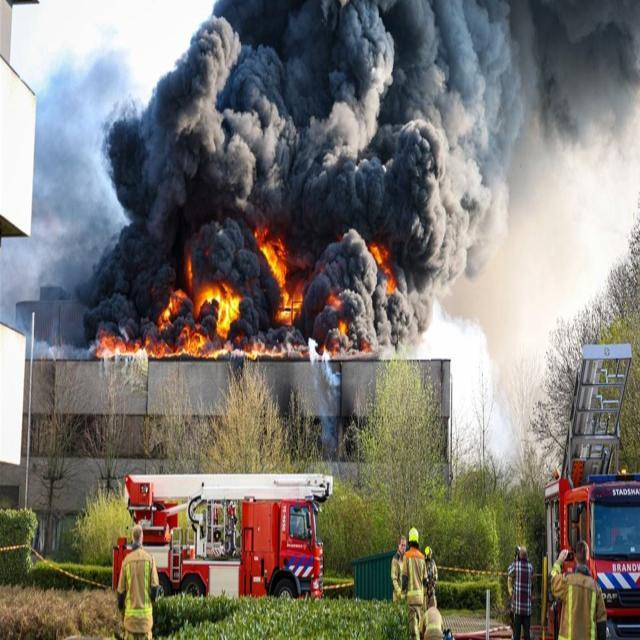Fire: (94, 254, 242, 358), (254, 227, 303, 326), (370, 244, 396, 295), (244, 350, 285, 360), (339, 321, 346, 337)
Smoke: (0, 0, 640, 490)
